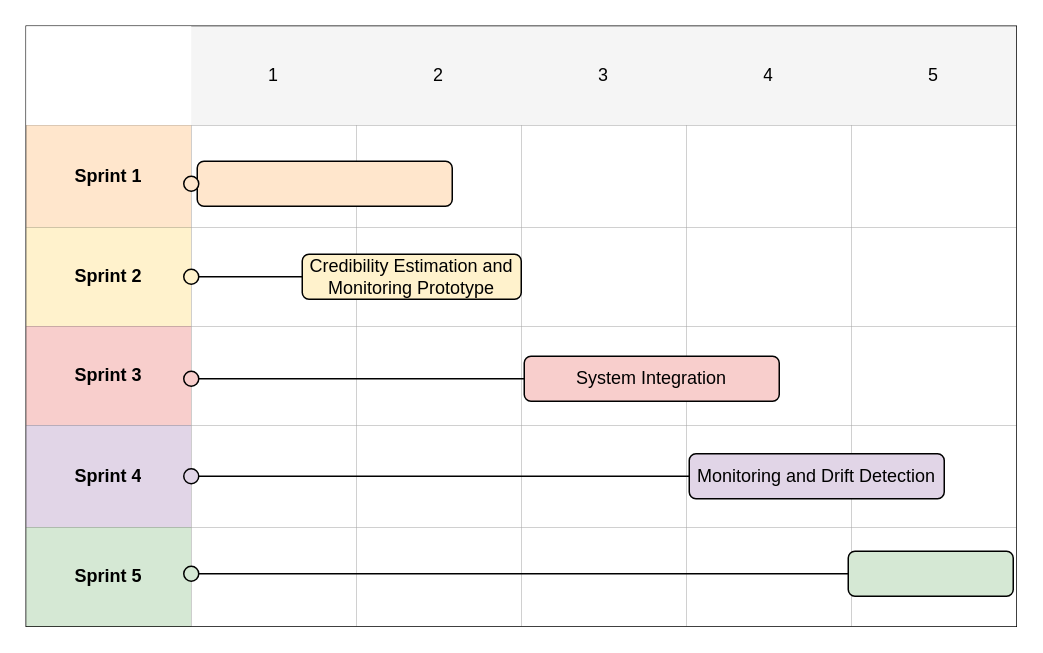
Image size: 1043x653. Some labels were removed from this diagram. The shapes that lost their labels are listed below. From the top down, each one's box as (x1, y1, x2, y2) in pixels, then its label:
(196, 160, 452, 206): Data Understanding and Infrastructure Foundation
(847, 550, 1013, 596): System Adaptation and Finalization
